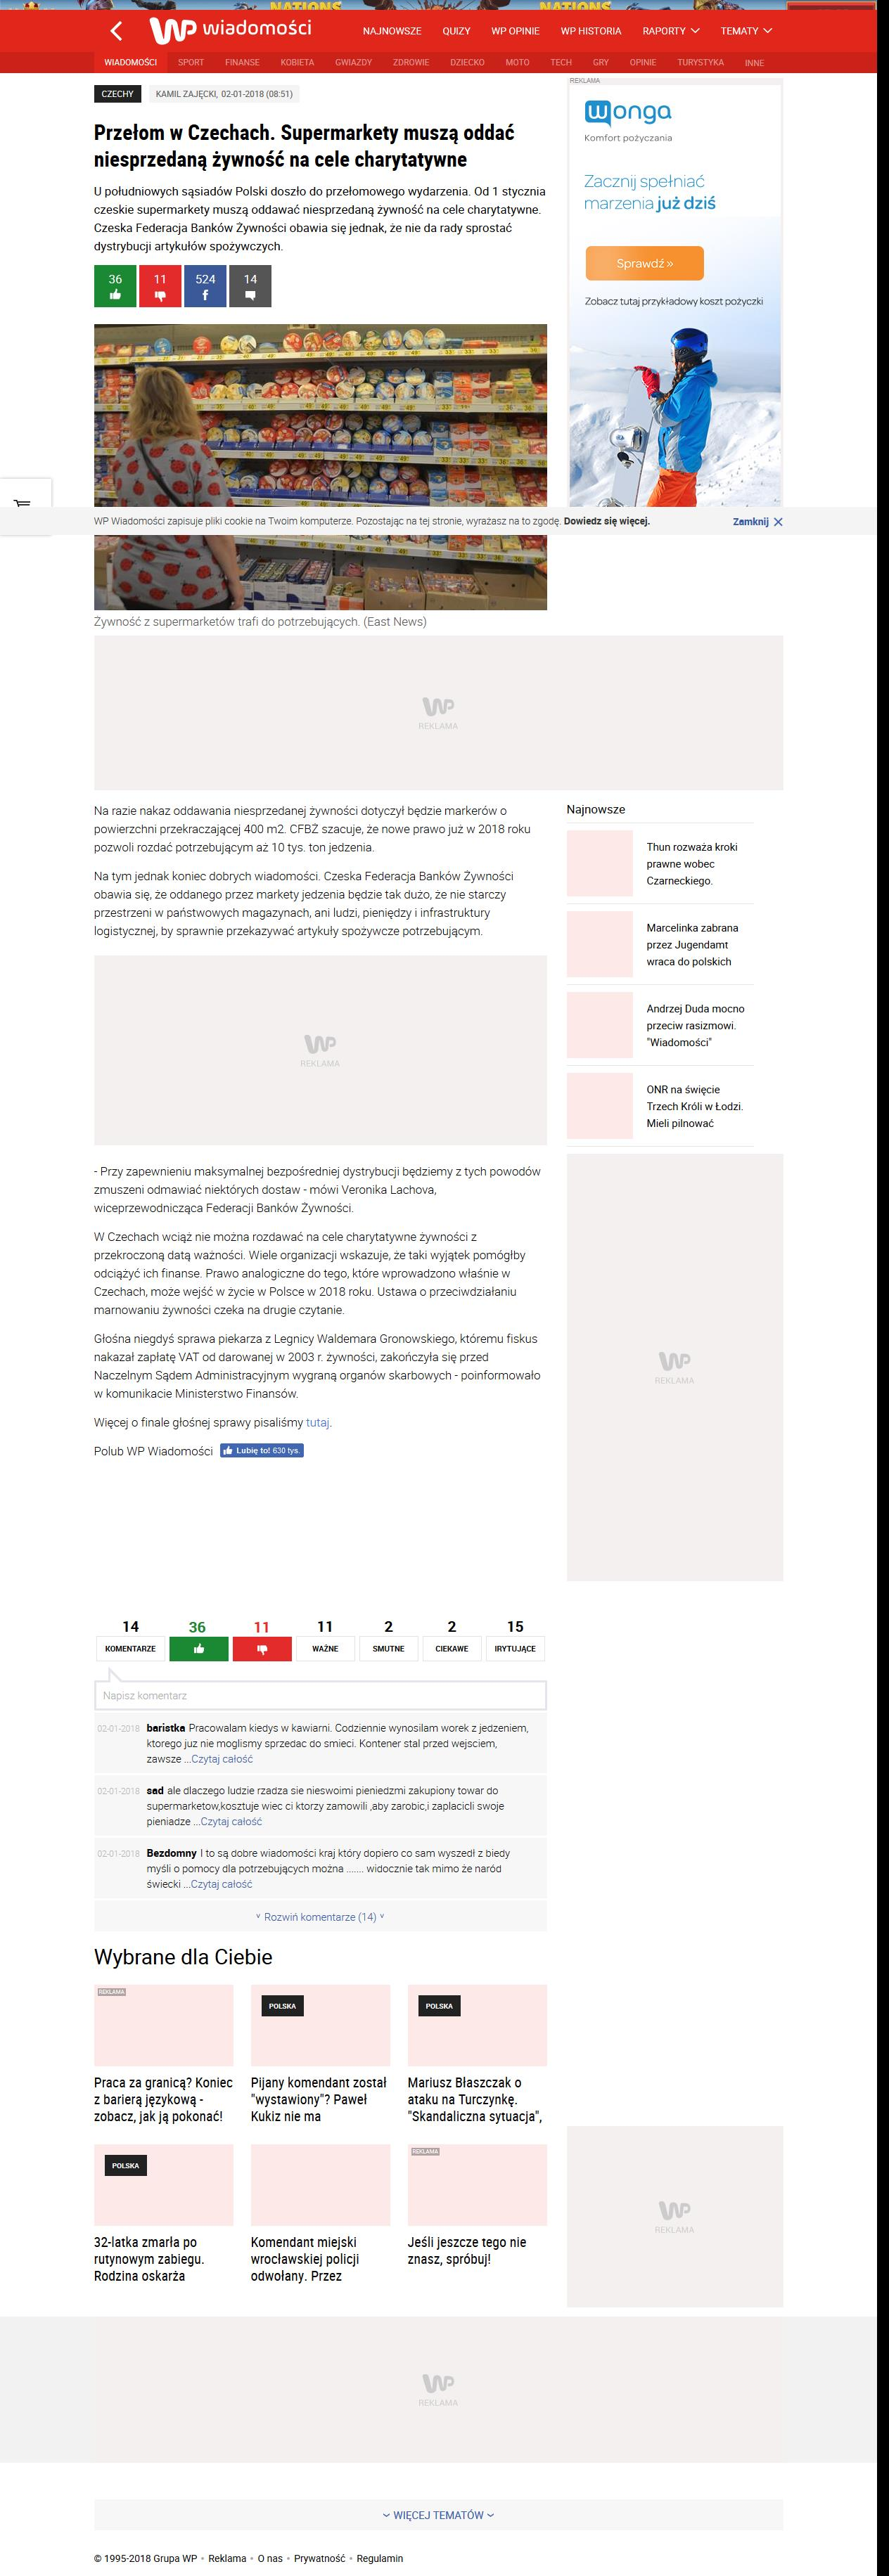title: (94, 123, 516, 171)
